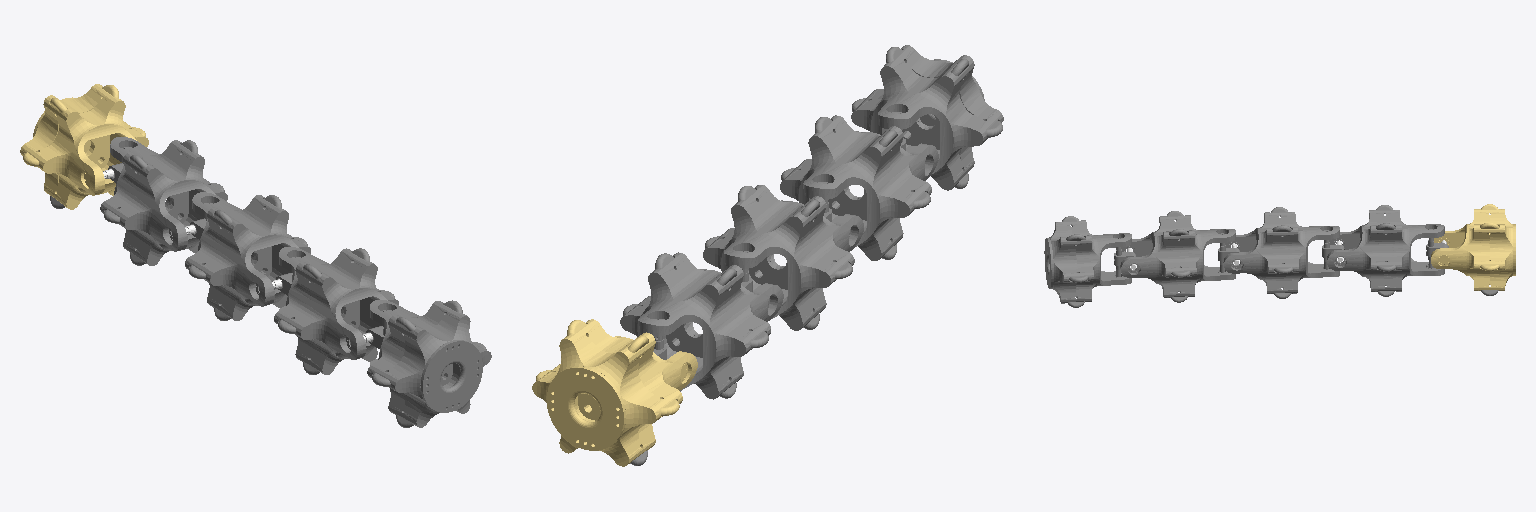
--- What the picture shows (computed from the rendered views, not written in the file) ---
The picture shows the robot from 3 angles, left to right: view 1: azimuth 30°, elevation 25°; view 2: azimuth 150°, elevation 25°; view 3: azimuth 270°, elevation 25°; orthographic projection.
Robot: snake — 19 links, 18 joints (17 revolute, 1 continuous); root link base_link; default pose: every joint at zero.
Visible links, largest first — view 1: l8, l6, l4, l2, base_link; view 2: base_link, l2, l4, l6, l8; view 3: l6, l2, l4, l8, base_link.
Link boxes in pixels (x1=…): l8: x1=366, y1=300, x2=491, y2=427; l6: x1=274, y1=247, x2=398, y2=374; l4: x1=185, y1=192, x2=310, y2=320; l2: x1=100, y1=137, x2=227, y2=265; base_link: x1=20, y1=84, x2=148, y2=209; base_link: x1=532, y1=319, x2=697, y2=466; l2: x1=620, y1=252, x2=783, y2=399; l4: x1=703, y1=185, x2=863, y2=330; l6: x1=780, y1=115, x2=938, y2=260; l8: x1=851, y1=45, x2=1003, y2=190; l6: x1=1120, y1=211, x2=1239, y2=297; l2: x1=1327, y1=205, x2=1448, y2=291; l4: x1=1223, y1=207, x2=1344, y2=293; l8: x1=1044, y1=216, x2=1135, y2=303; base_link: x1=1431, y1=204, x2=1515, y2=290.
Bounding box of the posed robot: 0.2336 × 0.9159 × 0.1572 m (x, y, z).
19 mesh visuals loaded from 19 distinct referenced files (19 binary STL).

robot.urdf — snake:
<?xml version="1.0" encoding="utf-8"?>
<!-- This URDF was automatically created by SolidWorks to URDF Exporter! Originally created by Stephen Brawner ([email redacted]) 
     Commit Version: 1.6.0-4-g7f85cfe  Build Version: 1.6.7995.38578
     For more information, please see http://wiki.ros.org/sw_urdf_exporter -->
<robot
  name="snake">
  <link
    name="base_link">
    <inertial>
      <origin
        xyz="-0.000234387980967782 -0.00697698813928649 0.0800930918880029"
        rpy="0 0 0" />
      <mass
        value="0.692458310054496" />
      <inertia
        ixx="0.000997183537585641"
        ixy="-2.07132036008273E-08"
        ixz="-3.4233050311668E-08"
        iyy="0.00155698261079698"
        iyz="-3.30810448839546E-09"
        izz="0.00109838425270199" />
    </inertial>
    <visual>
      <origin
        xyz="0 0 0"
        rpy="0 0 0" />
      <geometry>
        <mesh
          filename="package://snake_description/meshes/base_link.STL" />
      </geometry>
      <material
        name="">
        <color
          rgba="0.968627450980392 0.87843137254902 0.6 1" />
      </material>
    </visual>
    <collision>
      <origin
        xyz="0 0 0"
        rpy="0 0 0" />
      <geometry>
        <mesh
          filename="package://snake_description/meshes/base_link.STL" />
      </geometry>
    </collision>
  </link>
  <link
    name="l1">
    <inertial>
      <origin
        xyz="-9.30008088317891E-08 6.32183255932228E-05 2.34841335058911E-08"
        rpy="0 0 0" />
      <mass
        value="0.00768922083728109" />
      <inertia
        ixx="1.52375181114526E-07"
        ixy="-9.27840469125892E-13"
        ixz="-3.46371650369243E-12"
        iyy="3.55817081441276E-06"
        iyz="-1.81224797982756E-12"
        izz="3.54428768540674E-06" />
    </inertial>
    <visual>
      <origin
        xyz="0 0 0"
        rpy="0 0 0" />
      <geometry>
        <mesh
          filename="package://snake_description/meshes/l1.STL" />
      </geometry>
      <material
        name="">
        <color
          rgba="1 1 1 1" />
      </material>
    </visual>
    <collision>
      <origin
        xyz="0 0 0"
        rpy="0 0 0" />
      <geometry>
        <mesh
          filename="package://snake_description/meshes/l1.STL" />
      </geometry>
    </collision>
  </link>
  <joint
    name="j1"
    type="revolute">
    <origin
      xyz="-0.00023776 -0.09187 0.078152"
      rpy="0 0 0" />
    <parent
      link="base_link" />
    <child
      link="l1" />
    <axis
      xyz="1 0 0" />
    <limit
      lower="-7"
      upper="7"
      effort="100"
      velocity="100" />
  </joint>
  <link
    name="l2">
    <inertial>
      <origin
        xyz="0.00300986957255078 -0.0868389503008905 0.00190271917035976"
        rpy="0 0 0" />
      <mass
        value="0.707086398942021" />
      <inertia
        ixx="0.0012446245855875"
        ixy="-1.17706427129672E-05"
        ixz="-5.59026422462629E-09"
        iyy="0.0015834098469937"
        iyz="4.68265693427654E-10"
        izz="0.00124169789321489" />
    </inertial>
    <visual>
      <origin
        xyz="0 0 0"
        rpy="0 0 0" />
      <geometry>
        <mesh
          filename="package://snake_description/meshes/l2.STL" />
      </geometry>
      <material
        name="">
        <color
          rgba="0.6 0.6 0.6 1" />
      </material>
    </visual>
    <collision>
      <origin
        xyz="0 0 0"
        rpy="0 0 0" />
      <geometry>
        <mesh
          filename="package://snake_description/meshes/l2.STL" />
      </geometry>
    </collision>
  </link>
  <joint
    name="j2"
    type="revolute">
    <origin
      xyz="0 -0.025 0"
      rpy="0 0 0" />
    <parent
      link="l1" />
    <child
      link="l2" />
    <axis
      xyz="0 0 -1" />
    <limit
      lower="-7"
      upper="7"
      effort="100"
      velocity="100" />
  </joint>
  <link
    name="l3">
    <inertial>
      <origin
        xyz="-2.27777575889654E-06 6.31778937628669E-05 2.33684780207022E-08"
        rpy="0 0 0" />
      <mass
        value="0.00768922085741838" />
      <inertia
        ixx="1.56443101681605E-07"
        ixy="-1.17634852668758E-07"
        ixz="-3.39886306084711E-12"
        iyy="3.55410289385755E-06"
        iyz="-1.931662453994E-12"
        izz="3.54428768662788E-06" />
    </inertial>
    <visual>
      <origin
        xyz="0 0 0"
        rpy="0 0 0" />
      <geometry>
        <mesh
          filename="package://snake_description/meshes/l3.STL" />
      </geometry>
      <material
        name="">
        <color
          rgba="1 1 1 1" />
      </material>
    </visual>
    <collision>
      <origin
        xyz="0 0 0"
        rpy="0 0 0" />
      <geometry>
        <mesh
          filename="package://snake_description/meshes/l3.STL" />
      </geometry>
    </collision>
  </link>
  <joint
    name="j3"
    type="revolute">
    <origin
      xyz="0.00615167738184841 -0.177893667299857 0"
      rpy="0 0 0" />
    <parent
      link="l2" />
    <child
      link="l3" />
    <axis
      xyz="0.999402625280054 0.0345599852913034 0" />
    <limit
      lower="-7"
      upper="7"
      effort="100"
      velocity="100" />
  </joint>
  <link
    name="l4">
    <inertial>
      <origin
        xyz="0.00600921102535792 -0.0866830524957057 0.00190271617698692"
        rpy="0 0 0" />
      <mass
        value="0.707086339902103" />
      <inertia
        ixx="0.0012458418034607"
        ixy="-2.3443806256821E-05"
        ixz="-5.50394720680134E-09"
        iyy="0.00158219208618835"
        iyz="3.18679074270993E-10"
        izz="0.0012416972151501" />
    </inertial>
    <visual>
      <origin
        xyz="0 0 0"
        rpy="0 0 0" />
      <geometry>
        <mesh
          filename="package://snake_description/meshes/l4.STL" />
      </geometry>
      <material
        name="">
        <color
          rgba="0.6 0.6 0.6 1" />
      </material>
    </visual>
    <collision>
      <origin
        xyz="0 0 0"
        rpy="0 0 0" />
      <geometry>
        <mesh
          filename="package://snake_description/meshes/l4.STL" />
      </geometry>
    </collision>
  </link>
  <joint
    name="j4"
    type="revolute">
    <origin
      xyz="0.000863999632282564 -0.0249850656320013 0"
      rpy="0 0 0" />
    <parent
      link="l3" />
    <child
      link="l4" />
    <axis
      xyz="0 0 -1" />
    <limit
      lower="-7"
      upper="7"
      effort="100"
      velocity="100" />
  </joint>
  <link
    name="l5">
    <inertial>
      <origin
        xyz="-4.4598296490006E-06 6.30614553610576E-05 2.33497702943619E-08"
        rpy="0 0 0" />
      <mass
        value="0.0076892208794505" />
      <inertia
        ixx="1.68627301327118E-07"
        ixy="-2.34706774662253E-07"
        ixz="-3.32975082140531E-12"
        iyy="3.54191869407188E-06"
        iyz="-2.04815044309769E-12"
        izz="3.54428768781085E-06" />
    </inertial>
    <visual>
      <origin
        xyz="0 0 0"
        rpy="0 0 0" />
      <geometry>
        <mesh
          filename="package://snake_description/meshes/l5.STL" />
      </geometry>
      <material
        name="">
        <color
          rgba="1 1 1 1" />
      </material>
    </visual>
    <collision>
      <origin
        xyz="0 0 0"
        rpy="0 0 0" />
      <geometry>
        <mesh
          filename="package://snake_description/meshes/l5.STL" />
      </geometry>
    </collision>
  </link>
  <joint
    name="j5"
    type="revolute">
    <origin
      xyz="0.0122960050505949 -0.177574796240332 0"
      rpy="0 0 0" />
    <parent
      link="l4" />
    <child
      link="l5" />
    <axis
      xyz="0.99761121483333 0.0690786800595353 0" />
    <limit
      lower="-7"
      upper="7"
      effort="100"
      velocity="100" />
  </joint>
  <link
    name="l6">
    <inertial>
      <origin
        xyz="0.00900137343373282 -0.0864234981702365 0.00190269434190572"
        rpy="0 0 0" />
      <mass
        value="0.707087058502178" />
      <inertia
        ixx="0.00124786292514188"
        ixy="-3.50051707817033E-05"
        ixz="-5.57600152041487E-09"
        iyy="0.00158017127376804"
        iyz="1.01672327699261E-10"
        izz="0.00124169622338038" />
    </inertial>
    <visual>
      <origin
        xyz="0 0 0"
        rpy="0 0 0" />
      <geometry>
        <mesh
          filename="package://snake_description/meshes/l6.STL" />
      </geometry>
      <material
        name="">
        <color
          rgba="0.6 0.6 0.6 1" />
      </material>
    </visual>
    <collision>
      <origin
        xyz="0 0 0"
        rpy="0 0 0" />
      <geometry>
        <mesh
          filename="package://snake_description/meshes/l6.STL" />
      </geometry>
    </collision>
  </link>
  <joint
    name="j6"
    type="revolute">
    <origin
      xyz="0.00172696700148839 -0.0249402803708333 0"
      rpy="0 0 0" />
    <parent
      link="l5" />
    <child
      link="l6" />
    <axis
      xyz="0 0 -1" />
    <limit
      lower="-7"
      upper="7"
      effort="100"
      velocity="100" />
  </joint>
  <link
    name="l7">
    <inertial>
      <origin
        xyz="-6.63653621674198E-06 6.28690839595825E-05 2.34841427936006E-08"
        rpy="0 0 0" />
      <mass
        value="0.00768922083728108" />
      <inertia
        ixx="1.88869571586754E-07"
        ixy="-3.50657375760324E-07"
        ixz="-3.25751460827265E-12"
        iyy="3.52167642394053E-06"
        iyz="-2.16105849630301E-12"
        izz="3.54428768540674E-06" />
    </inertial>
    <visual>
      <origin
        xyz="0 0 0"
        rpy="0 0 0" />
      <geometry>
        <mesh
          filename="package://snake_description/meshes/l7.STL" />
      </geometry>
      <material
        name="">
        <color
          rgba="1 1 1 1" />
      </material>
    </visual>
    <collision>
      <origin
        xyz="0 0 0"
        rpy="0 0 0" />
      <geometry>
        <mesh
          filename="package://snake_description/meshes/l7.STL" />
      </geometry>
    </collision>
  </link>
  <joint
    name="j7"
    type="revolute">
    <origin
      xyz="0.0184256420741932 -0.177043767792469 0"
      rpy="0 0 0" />
    <parent
      link="l6" />
    <child
      link="l7" />
    <axis
      xyz="0.994627908946454 0.103514843113459 0" />
    <limit
      lower="-7"
      upper="7"
      effort="100"
      velocity="100" />
  </joint>
  <link
    name="l8">
    <inertial>
      <origin
        xyz="0.0115173506251668 -0.0827314123962982 0.00191470380704411"
        rpy="0 0 0" />
      <mass
        value="0.702654051556184" />
      <inertia
        ixx="0.00111087348385981"
        ixy="-6.26783338907165E-05"
        ixz="-2.77110307195667E-09"
        iyy="0.00155243888078097"
        iyz="9.93108518936302E-10"
        izz="0.000999229590005565" />
    </inertial>
    <visual>
      <origin
        xyz="0 0 0"
        rpy="0 0 0" />
      <geometry>
        <mesh
          filename="package://snake_description/meshes/l8.STL" />
      </geometry>
      <material
        name="">
        <color
          rgba="0.6 0.6 0.6 1" />
      </material>
    </visual>
    <collision>
      <origin
        xyz="0 0 0"
        rpy="0 0 0" />
      <geometry>
        <mesh
          filename="package://snake_description/meshes/l8.STL" />
      </geometry>
    </collision>
  </link>
  <joint
    name="j8"
    type="revolute">
    <origin
      xyz="0.00258787107783648 -0.0248656977236614 0"
      rpy="0 0 0" />
    <parent
      link="l7" />
    <child
      link="l8" />
    <axis
      xyz="0 0 -1" />
    <limit
      lower="-7"
      upper="7"
      effort="100"
      velocity="100" />
  </joint>
  <link
    name="w5.1">
    <inertial>
      <origin
        xyz="-1.11022302462516E-16 -3.02258218454199E-14 4.5102810375397E-17"
        rpy="0 0 0" />
      <mass
        value="0.0110969343557345" />
      <inertia
        ixx="1.11072386362244E-06"
        ixy="-2.85211875208284E-21"
        ixz="-6.61744490042422E-24"
        iyy="2.05541073669667E-06"
        iyz="1.05879118406788E-22"
        izz="1.11072386362244E-06" />
    </inertial>
    <visual>
      <origin
        xyz="0 0 0"
        rpy="0 0 0" />
      <geometry>
        <mesh
          filename="package://snake_description/meshes/w5.1.STL" />
      </geometry>
      <material
        name="">
        <color
          rgba="0.6 0.6 0.6 1" />
      </material>
    </visual>
    <collision>
      <origin
        xyz="0 0 0"
        rpy="0 0 0" />
      <geometry>
        <mesh
          filename="package://snake_description/meshes/w5.1.STL" />
      </geometry>
    </collision>
  </link>
  <joint
    name="j5.1"
    type="revolute">
    <origin
      xyz="0.046933 -0.083327 -0.060622"
      rpy="-0.52464 0.059931 1.6744" />
    <parent
      link="l8" />
    <child
      link="w5.1" />
    <axis
      xyz="0 1 0" />
    <limit
      lower="-7"
      upper="7"
      effort="100"
      velocity="100" />
  </joint>
  <link
    name="w5.2">
    <inertial>
      <origin
        xyz="1.11022302462516E-16 -3.56381590904675E-14 1.38777878078145E-17"
        rpy="0 0 0" />
      <mass
        value="0.0110969343557345" />
      <inertia
        ixx="1.11072386362244E-06"
        ixy="1.00916034731469E-21"
        ixz="1.98523347012727E-23"
        iyy="2.05541073669667E-06"
        iyz="-2.11758236813575E-22"
        izz="1.11072386362244E-06" />
    </inertial>
    <visual>
      <origin
        xyz="0 0 0"
        rpy="0 0 0" />
      <geometry>
        <mesh
          filename="package://snake_description/meshes/w5.2.STL" />
      </geometry>
      <material
        name="">
        <color
          rgba="0.6 0.6 0.6 1" />
      </material>
    </visual>
    <collision>
      <origin
        xyz="0 0 0"
        rpy="0 0 0" />
      <geometry>
        <mesh
          filename="package://snake_description/meshes/w5.2.STL" />
      </geometry>
    </collision>
  </link>
  <joint
    name="j5.2"
    type="continuous">
    <origin
      xyz="-0.022399 -0.092975 -0.060622"
      rpy="0.52464 -0.059931 1.6744" />
    <parent
      link="l8" />
    <child
      link="w5.2" />
    <axis
      xyz="0 1 0" />
    <limit
      lower="-7"
      upper="7"
      effort="100"
      velocity="100" />
  </joint>
  <link
    name="w4.1">
    <inertial>
      <origin
        xyz="2.22044604925031E-16 0.005 1.38777878078145E-17"
        rpy="0 0 0" />
      <mass
        value="0.0110969343557345" />
      <inertia
        ixx="1.11072386362244E-06"
        ixy="2.53282703563737E-21"
        ixz="-1.07533479631894E-23"
        iyy="2.05541073669667E-06"
        iyz="2.64697796016969E-22"
        izz="1.11072386362244E-06" />
    </inertial>
    <visual>
      <origin
        xyz="0 0 0"
        rpy="0 0 0" />
      <geometry>
        <mesh
          filename="package://snake_description/meshes/w4.1.STL" />
      </geometry>
      <material
        name="">
        <color
          rgba="0.6 0.6 0.6 1" />
      </material>
    </visual>
    <collision>
      <origin
        xyz="0 0 0"
        rpy="0 0 0" />
      <geometry>
        <mesh
          filename="package://snake_description/meshes/w4.1.STL" />
      </geometry>
    </collision>
  </link>
  <joint
    name="j4.1"
    type="revolute">
    <origin
      xyz="0.039718 -0.085347 -0.063122"
      rpy="0.52363 -0.010658 -1.4732" />
    <parent
      link="l6" />
    <child
      link="w4.1" />
    <axis
      xyz="0 0 0" />
    <limit
      lower="-7"
      upper="7"
      effort="100"
      velocity="100" />
  </joint>
  <link
    name="w4.2">
    <inertial>
      <origin
        xyz="-2.22044604925031E-16 0.00499999999999998 1.73472347597681E-17"
        rpy="0 0 0" />
      <mass
        value="0.0110969343557345" />
      <inertia
        ixx="1.11072386362244E-06"
        ixy="-1.35657620458697E-21"
        ixz="-1.32348898008484E-23"
        iyy="2.05541073669667E-06"
        iyz="-7.94093388050907E-23"
        izz="1.11072386362244E-06" />
    </inertial>
    <visual>
      <origin
        xyz="0 0 0"
        rpy="0 0 0" />
      <geometry>
        <mesh
          filename="package://snake_description/meshes/w4.2.STL" />
      </geometry>
      <material
        name="">
        <color
          rgba="0.6 0.6 0.6 1" />
      </material>
    </visual>
    <collision>
      <origin
        xyz="0 0 0"
        rpy="0 0 0" />
      <geometry>
        <mesh
          filename="package://snake_description/meshes/w4.2.STL" />
      </geometry>
    </collision>
  </link>
  <joint
    name="j4.2"
    type="revolute">
    <origin
      xyz="-0.029906 -0.092593 -0.058122"
      rpy="-0.52991 0.14706 -1.5527" />
    <parent
      link="l6" />
    <child
      link="w4.2" />
    <axis
      xyz="0 1 0" />
    <limit
      lower="-7"
      upper="7"
      effort="100"
      velocity="100" />
  </joint>
  <link
    name="w3.1">
    <inertial>
      <origin
        xyz="-1.11022302462516E-16 0.005 1.38777878078145E-17"
        rpy="0 0 0" />
      <mass
        value="0.0110969343557345" />
      <inertia
        ixx="1.11072386362244E-06"
        ixy="1.90871926346611E-21"
        ixz="-2.48154183765908E-24"
        iyy="2.05541073669667E-06"
        iyz="3.70576914423756E-22"
        izz="1.11072386362244E-06" />
    </inertial>
    <visual>
      <origin
        xyz="0 0 0"
        rpy="0 0 0" />
      <geometry>
        <mesh
          filename="package://snake_description/meshes/w3.1.STL" />
      </geometry>
      <material
        name="">
        <color
          rgba="0.6 0.6 0.6 1" />
      </material>
    </visual>
    <collision>
      <origin
        xyz="0 0 0"
        rpy="0 0 0" />
      <geometry>
        <mesh
          filename="package://snake_description/meshes/w3.1.STL" />
      </geometry>
    </collision>
  </link>
  <joint
    name="j3.1"
    type="revolute">
    <origin
      xyz="0.036745 -0.086669 -0.063122"
      rpy="0.52363 -0.010658 -1.5078" />
    <parent
      link="l4" />
    <child
      link="w3.1" />
    <axis
      xyz="0 1 0" />
    <limit
      lower="-7"
      upper="7"
      effort="100"
      velocity="100" />
  </joint>
  <link
    name="w3.2">
    <inertial>
      <origin
        xyz="-1.11022302462516E-16 0.00500000000000003 0"
        rpy="0 0 0" />
      <mass
        value="0.0110969343557345" />
      <inertia
        ixx="1.11072386362244E-06"
        ixy="-2.24331382124381E-21"
        ixz="5.29395592033938E-23"
        iyy="2.05541073669667E-06"
        iyz="-1.32348898008484E-21"
        izz="1.11072386362244E-06" />
    </inertial>
    <visual>
      <origin
        xyz="0 0 0"
        rpy="0 0 0" />
      <geometry>
        <mesh
          filename="package://snake_description/meshes/w3.2.STL" />
      </geometry>
      <material
        name="">
        <color
          rgba="0.6 0.6 0.6 1" />
      </material>
    </visual>
    <collision>
      <origin
        xyz="0 0 0"
        rpy="0 0 0" />
      <geometry>
        <mesh
          filename="package://snake_description/meshes/w3.2.STL" />
      </geometry>
    </collision>
  </link>
  <joint
    name="j3.2"
    type="revolute">
    <origin
      xyz="-0.033088 -0.091504 -0.058122"
      rpy="-0.52991 0.14706 -1.5873" />
    <parent
      link="l4" />
    <child
      link="w3.2" />
    <axis
      xyz="0 1 0" />
    <limit
      lower="-7"
      upper="7"
      effort="100"
      velocity="100" />
  </joint>
  <link
    name="w2.1">
    <inertial>
      <origin
        xyz="-5.55111512312578E-17 0.00500000000000002 6.93889390390723E-18"
        rpy="0 0 0" />
      <mass
        value="0.0110969343557345" />
      <inertia
        ixx="1.11072386362244E-06"
        ixy="1.92733082724855E-21"
        ixz="-1.65436122510606E-24"
        iyy="2.05541073669667E-06"
        iyz="0"
        izz="1.11072386362244E-06" />
    </inertial>
    <visual>
      <origin
        xyz="0 0 0"
        rpy="0 0 0" />
      <geometry>
        <mesh
          filename="package://snake_description/meshes/w2.1.STL" />
      </geometry>
      <material
        name="">
        <color
          rgba="0.6 0.6 0.6 1" />
      </material>
    </visual>
    <collision>
      <origin
        xyz="0 0 0"
        rpy="0 0 0" />
      <geometry>
        <mesh
          filename="package://snake_description/meshes/w2.1.STL" />
      </geometry>
    </collision>
  </link>
  <joint
    name="j2.1"
    type="revolute">
    <origin
      xyz="0.033727 -0.087887 -0.063122"
      rpy="0.52363 -0.010658 -1.5424" />
    <parent
      link="l2" />
    <child
      link="w2.1" />
    <axis
      xyz="0 0 0" />
    <limit
      lower="-7"
      upper="7"
      effort="100"
      velocity="100" />
  </joint>
  <link
    name="w2.2">
    <inertial>
      <origin
        xyz="-5.55111512312578E-17 0.005 0"
        rpy="0 0 0" />
      <mass
        value="0.0110969343557345" />
      <inertia
        ixx="1.11072386362244E-06"
        ixy="2.58080351116545E-21"
        ixz="-1.32348898008484E-23"
        iyy="2.05541073669667E-06"
        iyz="-1.85288457211878E-22"
        izz="1.11072386362244E-06" />
    </inertial>
    <visual>
      <origin
        xyz="0 0 0"
        rpy="0 0 0" />
      <geometry>
        <mesh
          filename="package://snake_description/meshes/w2.2.STL" />
      </geometry>
      <material
        name="">
        <color
          rgba="0.6 0.6 0.6 1" />
      </material>
    </visual>
    <collision>
      <origin
        xyz="0 0 0"
        rpy="0 0 0" />
      <geometry>
        <mesh
          filename="package://snake_description/meshes/w2.2.STL" />
      </geometry>
    </collision>
  </link>
  <joint
    name="j2.2"
    type="revolute">
    <origin
      xyz="-0.036231 -0.090306 -0.058122"
      rpy="-0.52991 0.14706 -1.6219" />
    <parent
      link="l2" />
    <child
      link="w2.2" />
    <axis
      xyz="0 0 0" />
    <limit
      lower="-7"
      upper="7"
      effort="100"
      velocity="100" />
  </joint>
  <link
    name="w1.1">
    <inertial>
      <origin
        xyz="-2.77555756156289E-17 0.005 0"
        rpy="0 0 0" />
      <mass
        value="0.0110969343557345" />
      <inertia
        ixx="1.11072386362244E-06"
        ixy="-1.0319078141599E-21"
        ixz="-8.27180612553028E-25"
        iyy="2.05541073669667E-06"
        iyz="3.17637355220363E-22"
        izz="1.11072386362244E-06" />
    </inertial>
    <visual>
      <origin
        xyz="0 0 0"
        rpy="0 0 0" />
      <geometry>
        <mesh
          filename="package://snake_description/meshes/w1.1.STL" />
      </geometry>
      <material
        name="">
        <color
          rgba="0.6 0.6 0.6 1" />
      </material>
    </visual>
    <collision>
      <origin
        xyz="0 0 0"
        rpy="0 0 0" />
      <geometry>
        <mesh
          filename="package://snake_description/meshes/w1.1.STL" />
      </geometry>
    </collision>
  </link>
  <joint
    name="j1.1"
    type="revolute">
    <origin
      xyz="0.030432 -0.0028698 0.01503"
      rpy="0.52363 -0.010658 -1.5769" />
    <parent
      link="base_link" />
    <child
      link="w1.1" />
    <axis
      xyz="0 1 0" />
    <limit
      lower="-7"
      upper="7"
      effort="100"
      velocity="100" />
  </joint>
  <link
    name="w1.2">
    <inertial>
      <origin
        xyz="2.77555756156289E-17 0.005 0"
        rpy="0 0 0" />
      <mass
        value="0.0110969343557345" />
      <inertia
        ixx="1.11072386362244E-06"
        ixy="6.28657265540301E-22"
        ixz="6.61744490042422E-23"
        iyy="2.05541073669667E-06"
        iyz="-2.64697796016969E-23"
        izz="1.11072386362244E-06" />
    </inertial>
    <visual>
      <origin
        xyz="0 0 0"
        rpy="0 0 0" />
      <geometry>
        <mesh
          filename="package://snake_description/meshes/w1.2.STL" />
      </geometry>
      <material
        name="">
        <color
          rgba="0.6 0.6 0.6 1" />
      </material>
    </visual>
    <collision>
      <origin
        xyz="0 0 0"
        rpy="0 0 0" />
      <geometry>
        <mesh
          filename="package://snake_description/meshes/w1.2.STL" />
      </geometry>
    </collision>
  </link>
  <joint
    name="j1.2"
    type="revolute">
    <origin
      xyz="-0.039568 -0.0028698 0.02003"
      rpy="-0.52991 0.14706 -1.6564" />
    <parent
      link="base_link" />
    <child
      link="w1.2" />
    <axis
      xyz="0 0 0" />
    <limit
      lower="-7"
      upper="7"
      effort="100"
      velocity="100" />
  </joint>
  <transmission name="trans_j1">
        <type>transmission_interface/SimpleTransmission</type>
        <joint name="j1">
            <hardwareInterface>hardware_interface/EffortJointInterface</hardwareInterface>
        </joint>
        <actuator name="j1_motor">
            <hardwareInterface>hardware_interface/EffortJointInterface</hardwareInterface>
            <mechanicalReduction>1</mechanicalReduction>
        </actuator>
    </transmission>
    <transmission name="trans_j2">
        <type>transmission_interface/SimpleTransmission</type>
        <joint name="j2">
            <hardwareInterface>hardware_interface/EffortJointInterface</hardwareInterface>
        </joint>
        <actuator name="j2_motor">
            <hardwareInterface>hardware_interface/EffortJointInterface</hardwareInterface>
            <mechanicalReduction>1</mechanicalReduction>
        </actuator>
    </transmission>
    <transmission name="trans_j3">
        <type>transmission_interface/SimpleTransmission</type>
        <joint name="j3">
            <hardwareInterface>hardware_interface/EffortJointInterface</hardwareInterface>
        </joint>
        <actuator name="j3_motor">
            <hardwareInterface>hardware_interface/EffortJointInterface</hardwareInterface>
            <mechanicalReduction>1</mechanicalReduction>
        </actuator>
    </transmission>
    <transmission name="trans_j4">
        <type>transmission_interface/SimpleTransmission</type>
        <joint name="j4">
            <hardwareInterface>hardware_interface/EffortJointInterface</hardwareInterface>
        </joint>
        <actuator name="j4_motor">
            <hardwareInterface>hardware_interface/EffortJointInterface</hardwareInterface>
            <mechanicalReduction>1</mechanicalReduction>
        </actuator>
    </transmission>
    <transmission name="trans_j5">
        <type>transmission_interface/SimpleTransmission</type>
        <joint name="j5">
            <hardwareInterface>hardware_interface/EffortJointInterface</hardwareInterface>
        </joint>
        <actuator name="j5_motor">
            <hardwareInterface>hardware_interface/EffortJointInterface</hardwareInterface>
            <mechanicalReduction>1</mechanicalReduction>
        </actuator>
    </transmission>
    <transmission name="trans_j6">
        <type>transmission_interface/SimpleTransmission</type>
        <joint name="j6">
            <hardwareInterface>hardware_interface/EffortJointInterface</hardwareInterface>
        </joint>
        <actuator name="j6_motor">
            <hardwareInterface>hardware_interface/EffortJointInterface</hardwareInterface>
            <mechanicalReduction>1</mechanicalReduction>
        </actuator>
    </transmission>
    <transmission name="trans_j7">
        <type>transmission_interface/SimpleTransmission</type>
        <joint name="j7">
            <hardwareInterface>hardware_interface/EffortJointInterface</hardwareInterface>
        </joint>
        <actuator name="j7_motor">
            <hardwareInterface>hardware_interface/EffortJointInterface</hardwareInterface>
            <mechanicalReduction>1</mechanicalReduction>
        </actuator>
    </transmission>
    <transmission name="trans_j8">
        <type>transmission_interface/SimpleTransmission</type>
        <joint name="j8">
            <hardwareInterface>hardware_interface/EffortJointInterface</hardwareInterface>
        </joint>
        <actuator name="j8_motor">
            <hardwareInterface>hardware_interface/EffortJointInterface</hardwareInterface>
            <mechanicalReduction>1</mechanicalReduction>
        </actuator>
    </transmission>
    <transmission name="trans_j5.1">
        <type>transmission_interface/SimpleTransmission</type>
        <joint name="j5.1">
            <hardwareInterface>hardware_interface/EffortJointInterface</hardwareInterface>
        </joint>
        <actuator name="j5.1_motor">
            <hardwareInterface>hardware_interface/EffortJointInterface</hardwareInterface>
            <mechanicalReduction>1</mechanicalReduction>
        </actuator>
    </transmission>
    <transmission name="trans_j5.2">
        <type>transmission_interface/SimpleTransmission</type>
        <joint name="j5.2">
            <hardwareInterface>hardware_interface/EffortJointInterface</hardwareInterface>
        </joint>
        <actuator name="j5.2_motor">
            <hardwareInterface>hardware_interface/EffortJointInterface</hardwareInterface>
            <mechanicalReduction>1</mechanicalReduction>
        </actuator>
    </transmission>
    <transmission name="trans_j4.1">
        <type>transmission_interface/SimpleTransmission</type>
        <joint name="j4.1">
            <hardwareInterface>hardware_interface/EffortJointInterface</hardwareInterface>
        </joint>
        <actuator name="j4.1_motor">
            <hardwareInterface>hardware_interface/EffortJointInterface</hardwareInterface>
            <mechanicalReduction>1</mechanicalReduction>
        </actuator>
    </transmission>
    <transmission name="trans_j4.2">
        <type>transmission_interface/SimpleTransmission</type>
        <joint name="j4.2">
            <hardwareInterface>hardware_interface/EffortJointInterface</hardwareInterface>
        </joint>
        <actuator name="j4.2_motor">
            <hardwareInterface>hardware_interface/EffortJointInterface</hardwareInterface>
            <mechanicalReduction>1</mechanicalReduction>
        </actuator>
    </transmission>
    <transmission name="trans_j3.1">
        <type>transmission_interface/SimpleTransmission</type>
        <joint name="j3.1">
            <hardwareInterface>hardware_interface/EffortJointInterface</hardwareInterface>
        </joint>
        <actuator name="j3.1_motor">
            <hardwareInterface>hardware_interface/EffortJointInterface</hardwareInterface>
            <mechanicalReduction>1</mechanicalReduction>
        </actuator>
    </transmission>
    <transmission name="trans_j3.2">
        <type>transmission_interface/SimpleTransmission</type>
        <joint name="j3.2">
            <hardwareInterface>hardware_interface/EffortJointInterface</hardwareInterface>
        </joint>
        <actuator name="j3.2_motor">
            <hardwareInterface>hardware_interface/EffortJointInterface</hardwareInterface>
            <mechanicalReduction>1</mechanicalReduction>
        </actuator>
    </transmission>
    <transmission name="trans_j2.1">
        <type>transmission_interface/SimpleTransmission</type>
        <joint name="j2.1">
            <hardwareInterface>hardware_interface/EffortJointInterface</hardwareInterface>
        </joint>
        <actuator name="j2.1_motor">
            <hardwareInterface>hardware_interface/EffortJointInterface</hardwareInterface>
            <mechanicalReduction>1</mechanicalReduction>
        </actuator>
    </transmission>
    <transmission name="trans_j2.2">
        <type>transmission_interface/SimpleTransmission</type>
        <joint name="j2.2">
            <hardwareInterface>hardware_interface/EffortJointInterface</hardwareInterface>
        </joint>
        <actuator name="j2.2_motor">
            <hardwareInterface>hardware_interface/EffortJointInterface</hardwareInterface>
            <mechanicalReduction>1</mechanicalReduction>
        </actuator>
    </transmission>
    <transmission name="trans_j1.1">
        <type>transmission_interface/SimpleTransmission</type>
        <joint name="j1.1">
            <hardwareInterface>hardware_interface/EffortJointInterface</hardwareInterface>
        </joint>
        <actuator name="j1.1_motor">
            <hardwareInterface>hardware_interface/EffortJointInterface</hardwareInterface>
            <mechanicalReduction>1</mechanicalReduction>
        </actuator>
    </transmission>
    <transmission name="trans_j1.2">
        <type>transmission_interface/SimpleTransmission</type>
        <joint name="j1.2">
            <hardwareInterface>hardware_interface/EffortJointInterface</hardwareInterface>
        </joint>
        <actuator name="j1.2_motor">
            <hardwareInterface>hardware_interface/EffortJointInterface</hardwareInterface>
            <mechanicalReduction>1</mechanicalReduction>
        </actuator>
    </transmission>
  <gazebo>
	<plugin name="gazebo_ros_control" filename="libgazebo_ros_control.so">
	    <robotNamespace>/snake</robotNamespace>
	 </plugin>
  </gazebo>
 
</robot>
